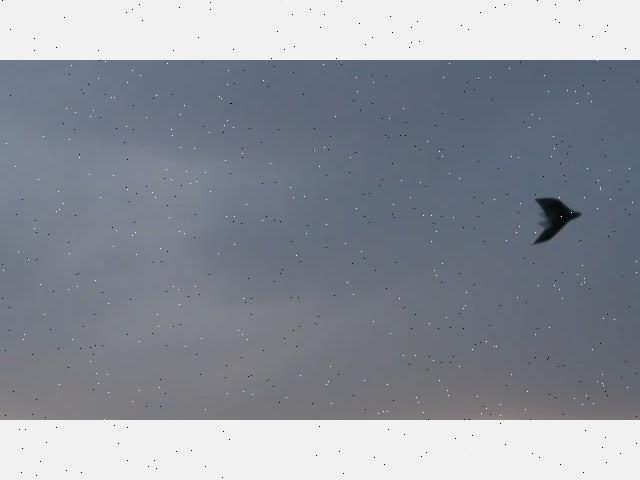Anti-Drone: (532, 197, 582, 247)
